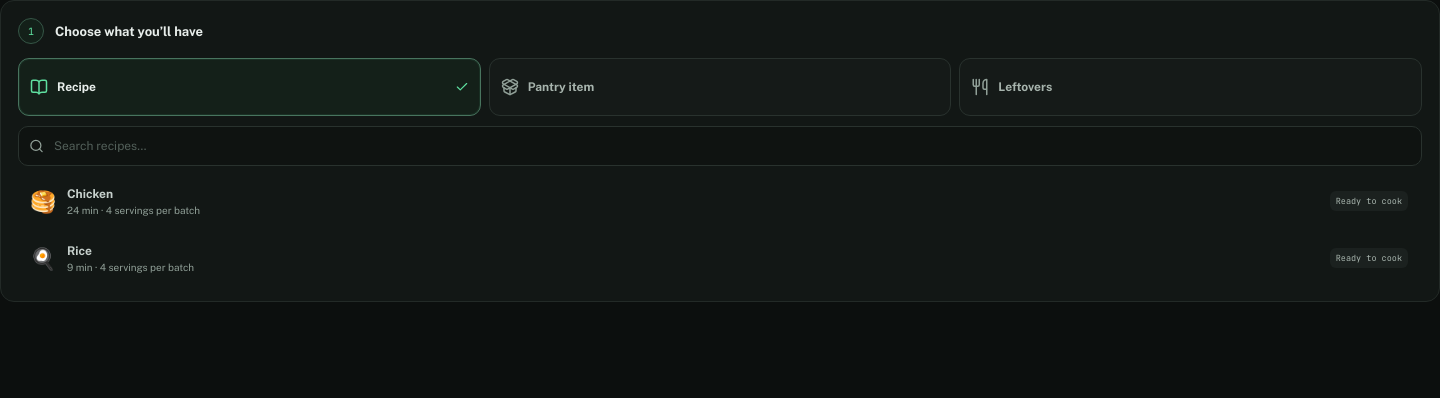
Scenario: leftover planning › keeps every dish in a future leftover group and includes each portion in the preview
Click the tab "Leftovers".
click(1025, 87)  # box [959, 58, 1422, 116]
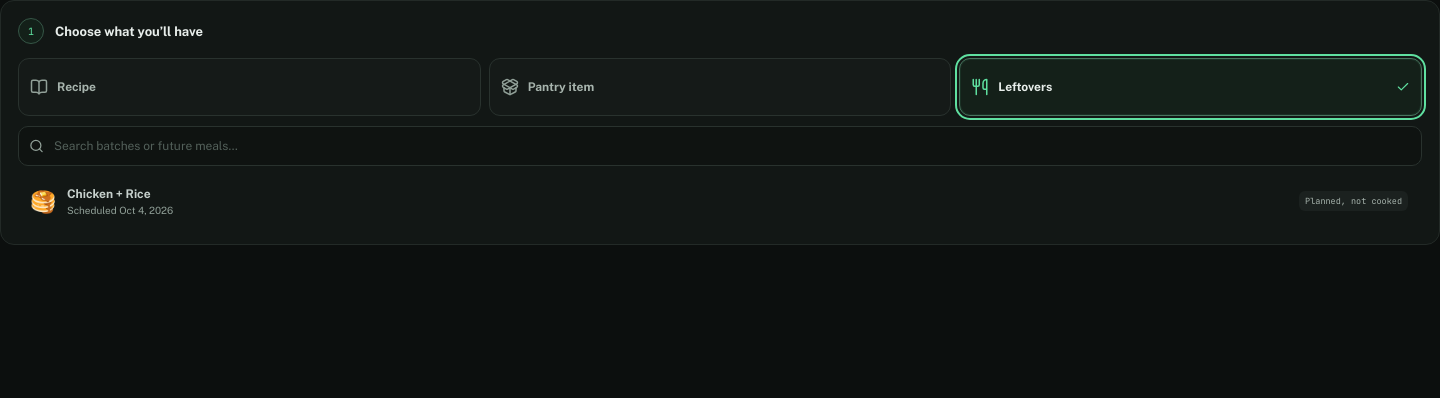
Click the option "🥞 Chicken + Rice Scheduled Oct 4, 2026 Planned, not cooked".
click(109, 194)  # box [18, 175, 1419, 227]
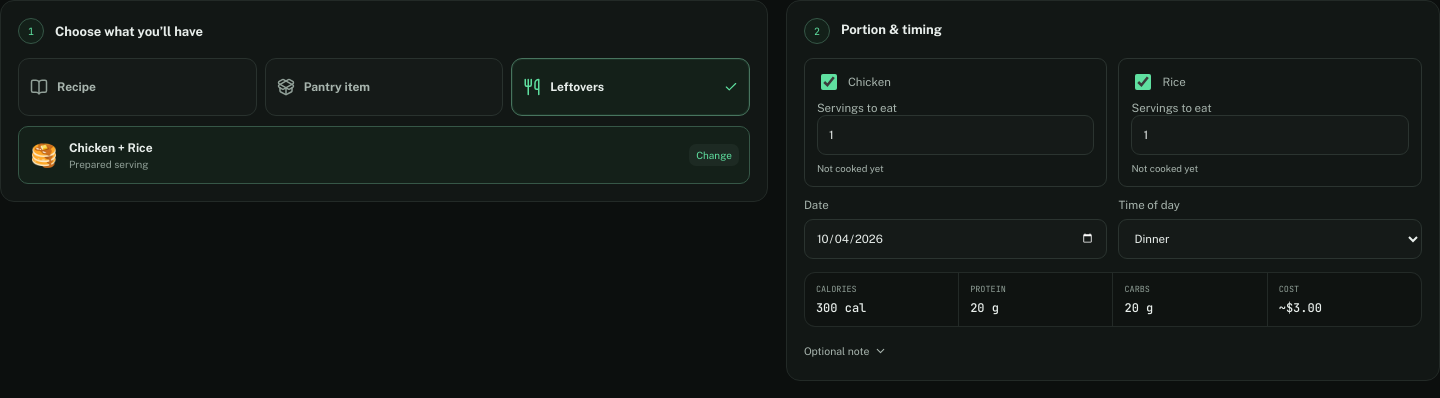
Result: the text "Chicken + Rice" is shown at [69, 140, 153, 154]
Result: the text "300 cal" is shown at [816, 300, 866, 316]
Result: the text "~$3.00" is shown at [1279, 300, 1322, 316]
